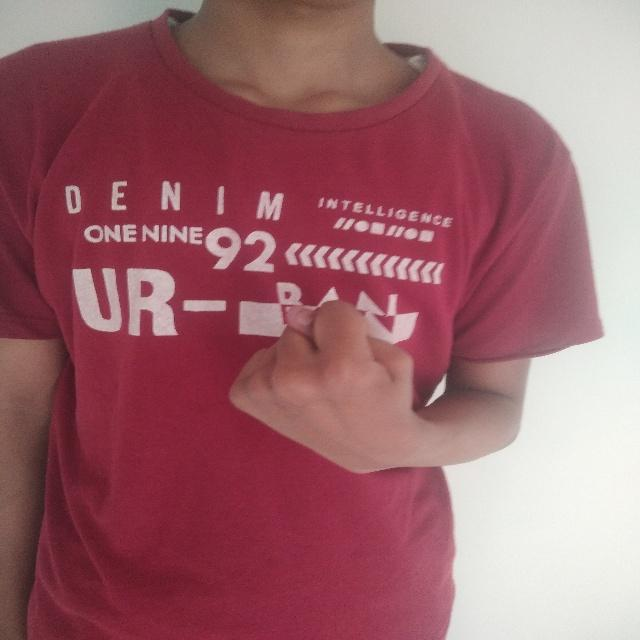Dulya: (222, 296, 434, 486)
